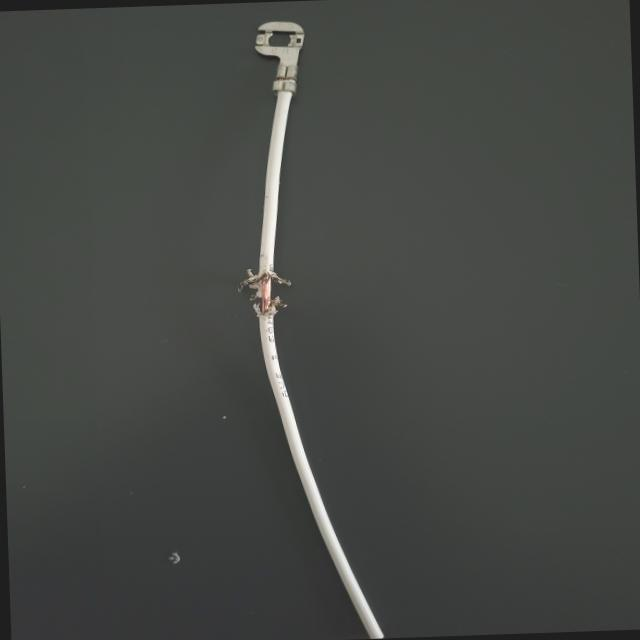defect: (171, 200, 402, 389)
